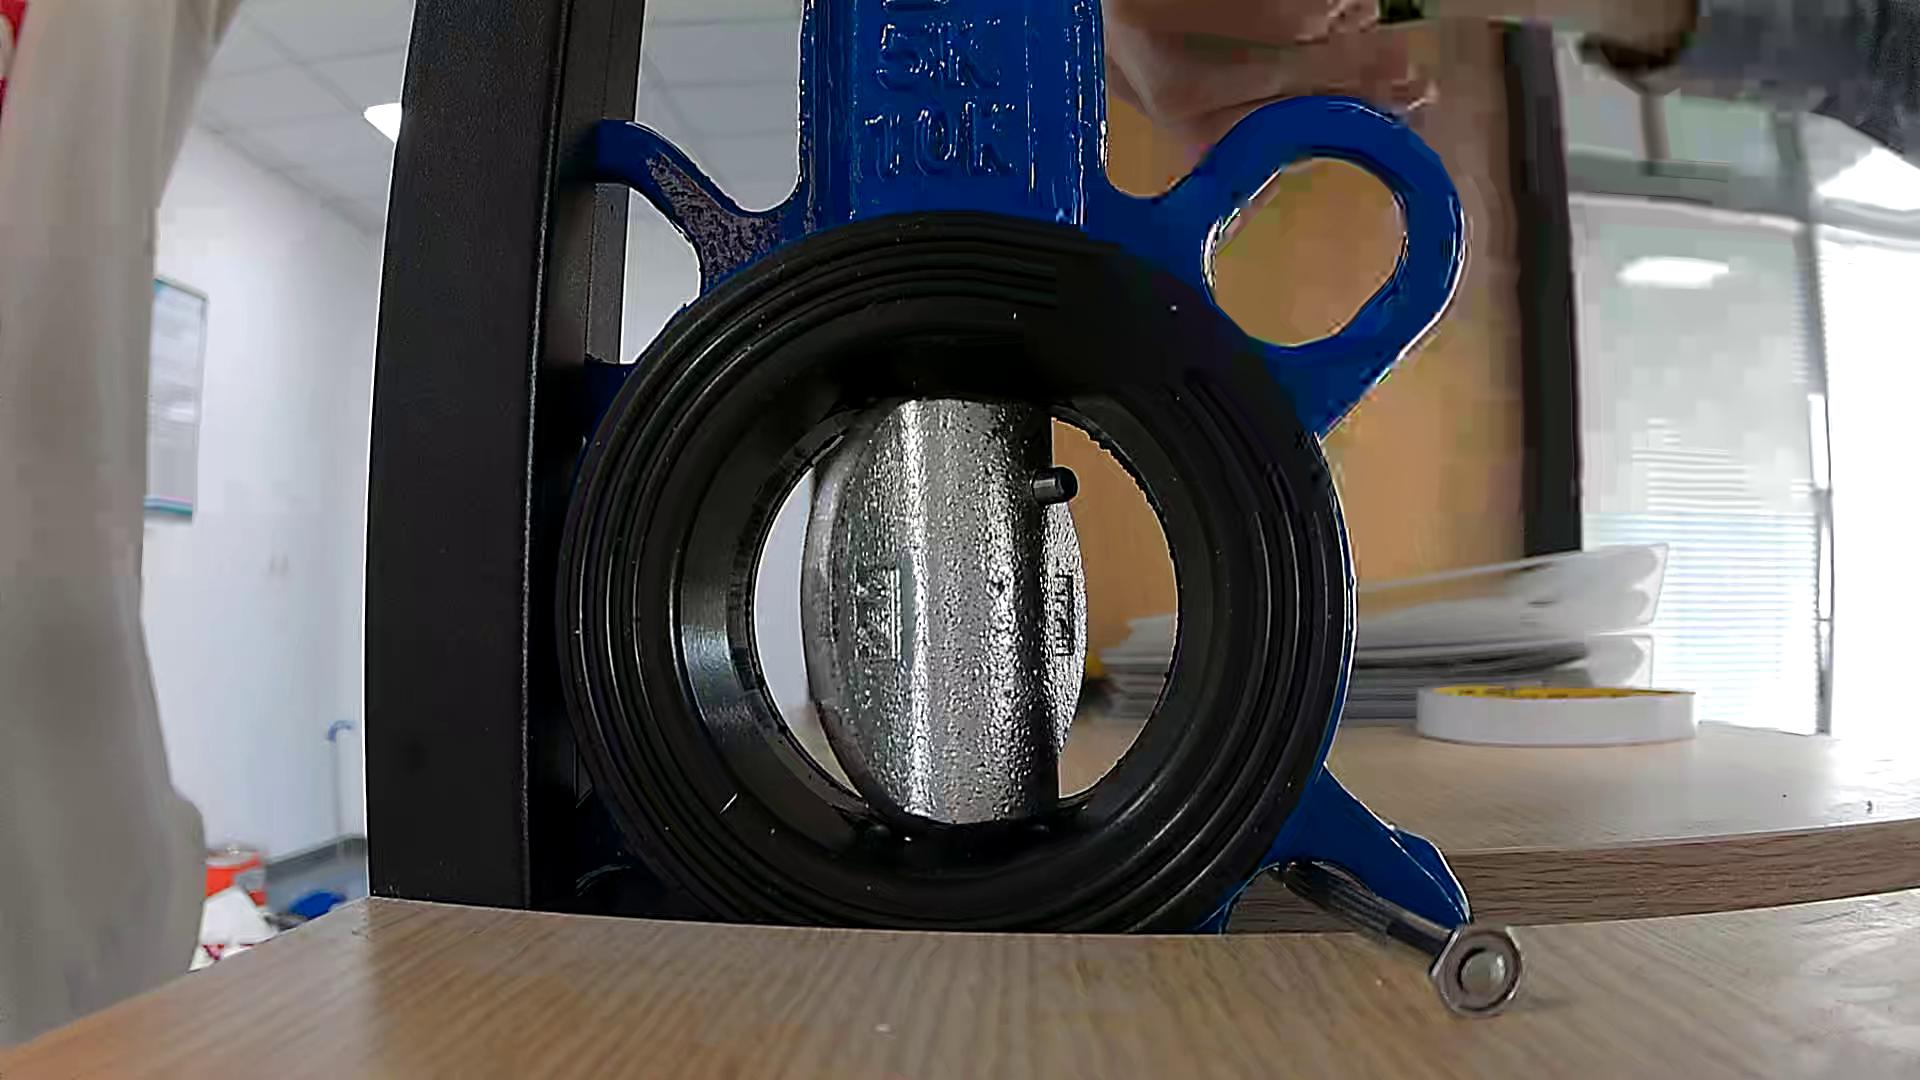valve: (802, 398, 1088, 825)
